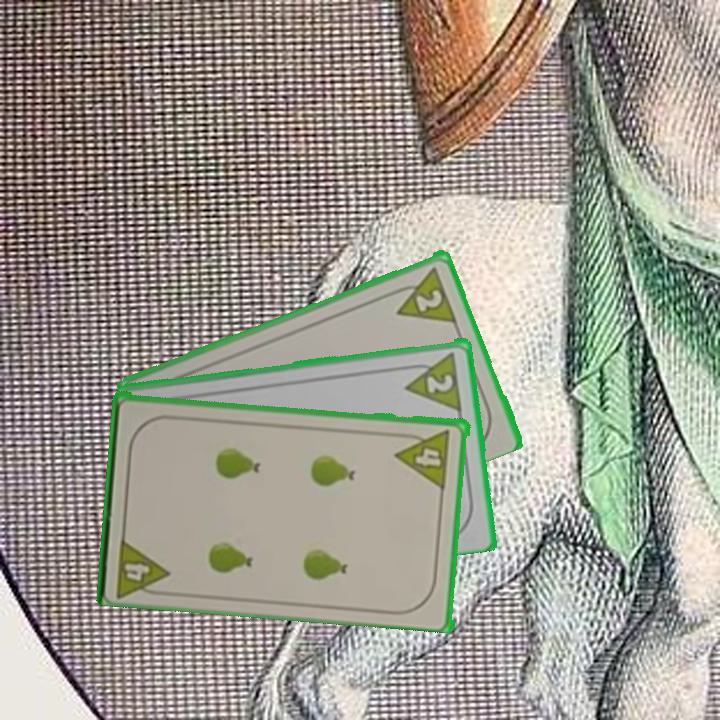2p: (386, 262, 460, 325), (400, 347, 465, 413)
4p: (112, 532, 173, 599), (394, 425, 454, 490)
